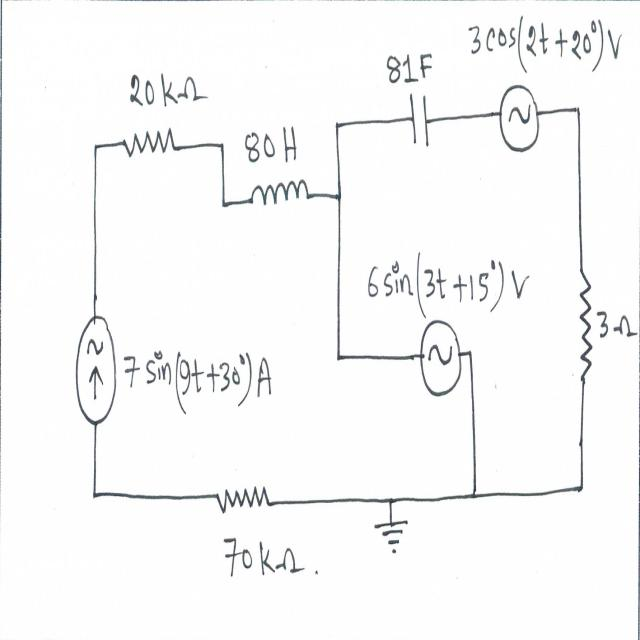ac_current: (414, 313, 466, 403), (497, 76, 541, 156)
capacitor: (407, 90, 432, 154)
current_source: (73, 309, 120, 427)
ground: (373, 516, 413, 561)
inductor: (250, 172, 310, 220)
resistor: (213, 475, 275, 526), (576, 245, 595, 394), (119, 126, 178, 166)
